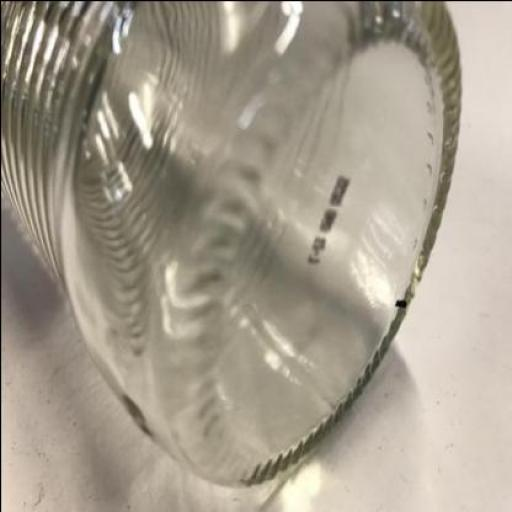glass: (0, 1, 463, 486)
